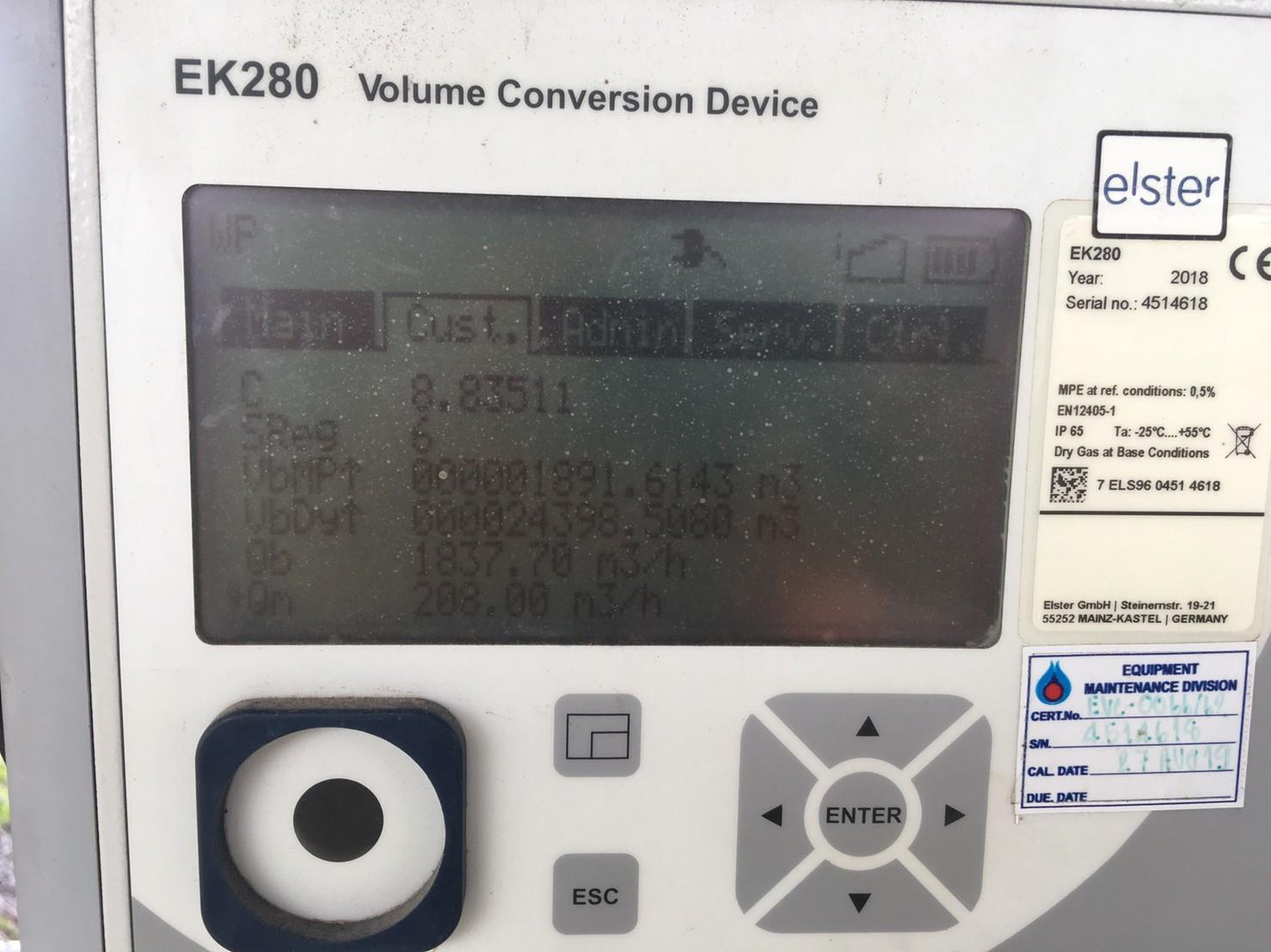digital_screen: (183, 188, 1029, 644)
